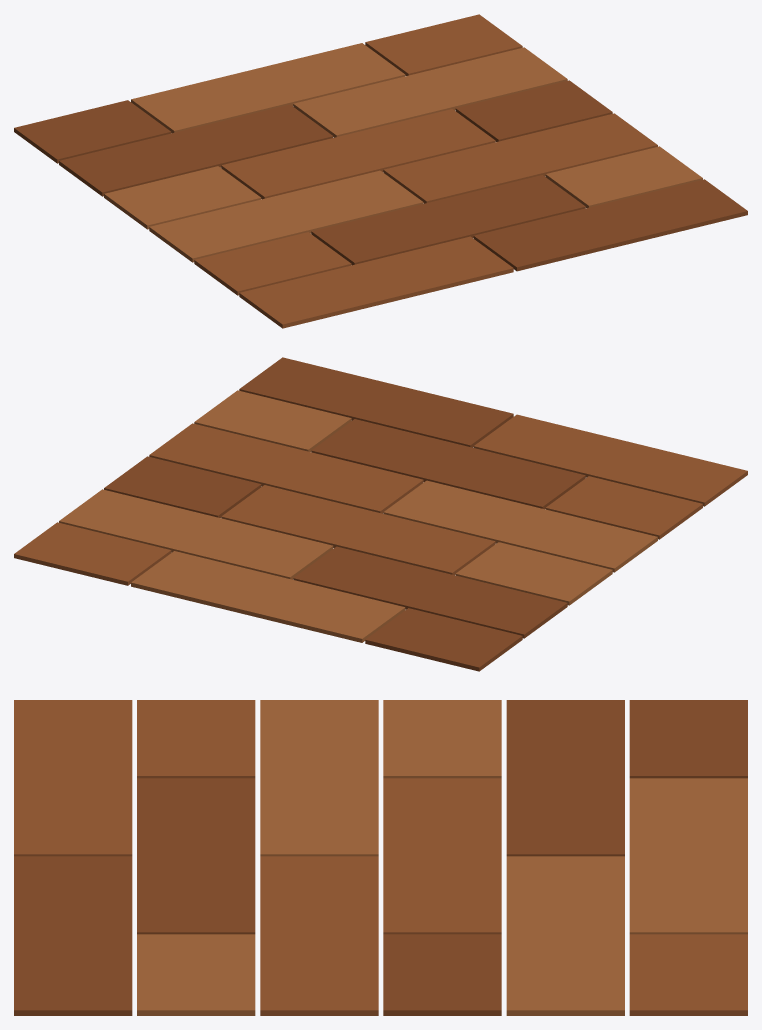
The model's file is floor_panel.glb.
3 views of the same model, one above another, from view 1: azimuth 30°, elevation 25°; view 2: azimuth 150°, elevation 25°; view 3: azimuth 270°, elevation 25° (orthographic). The views are drawn at different scales.
Parts seen in each view (by area): view 1: floor_panel; view 2: floor_panel; view 3: floor_panel.
Boxes of the visible parts, x1,y1,x2,y2 form: floor_panel: (14,14,747,328); floor_panel: (14,357,747,671); floor_panel: (14,700,747,1015).
Bounding box in the file's own units: 1.19 × 0.01 × 1.19.
